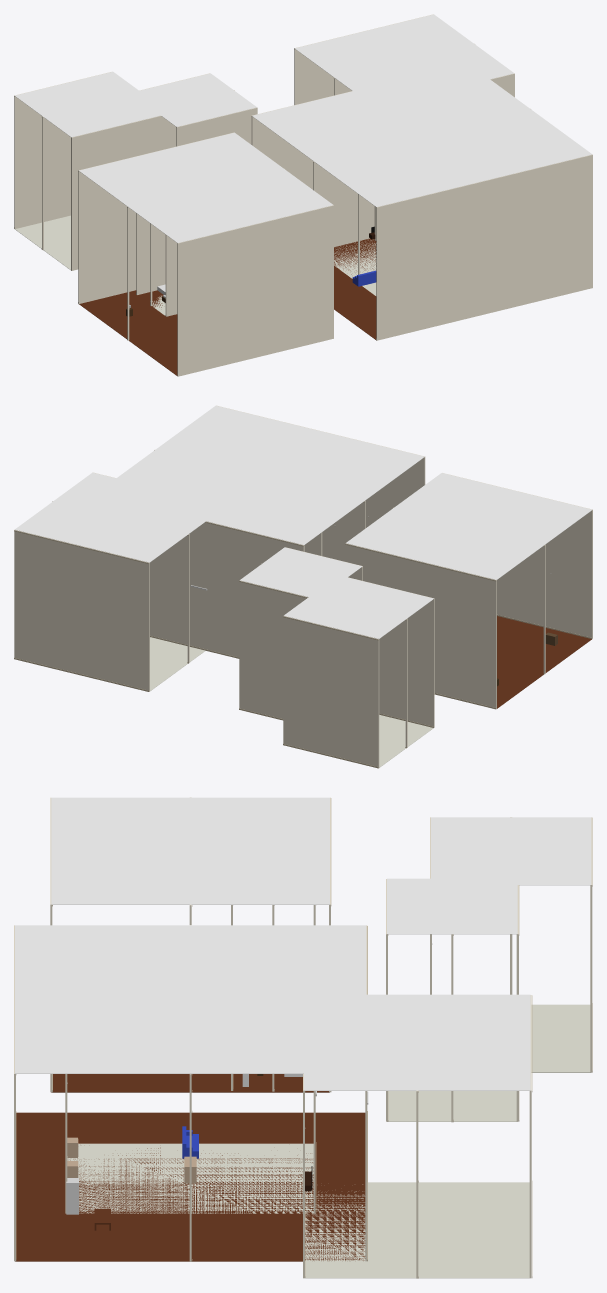
The model's file is ultra_detailed_1773.obj.
3 views of the same model, one above another, from view 1: azimuth 30°, elevation 25°; view 2: azimuth 150°, elevation 25°; view 3: azimuth 270°, elevation 25° (orthographic). The views are drawn at different scales.
Parts seen in each view (by area): view 1: Living_Room_1_front_wall_Living_Room_1_front_wall_material, Living_Room_1_ceiling_Living_Room_1_ceiling_material, Bedroom_1_front_wall_Bedroom_1_front_wall_material, Bedroom_1_ceiling_Bedroom_1_ceiling_material, Dining_Room_1_ceiling_Dining_Room_1_ceiling_material, Bedroom_1_back_wall_Bedroom_1_back_wall_material, Utility_Room_1_back_wall_Utility_Room_1_back_wall_material, Utility_Room_1_ceiling_Utility_Room_1_ceiling_material, Utility_Room_1_front_wall_Utility_Room_1_front_wall_material, Bedroom_1_floor_Bedroom_1_floor_material, Store_Room_1_ceiling_Store_Room_1_ceiling_material, Living_Room_1_floor_Living_Room_1_floor_material (+10 smaller); view 2: Living_Room_1_ceiling_Living_Room_1_ceiling_material, Dining_Room_1_back_wall_Dining_Room_1_back_wall_material, Bedroom_1_ceiling_Bedroom_1_ceiling_material, Utility_Room_1_back_wall_Utility_Room_1_back_wall_material, Living_Room_1_back_wall_Living_Room_1_back_wall_material, Bedroom_1_back_wall_Bedroom_1_back_wall_material, Dining_Room_1_ceiling_Dining_Room_1_ceiling_material, Bedroom_1_front_wall_Bedroom_1_front_wall_material, Store_Room_1_back_wall_Store_Room_1_back_wall_material, Utility_Room_1_front_wall_Utility_Room_1_front_wall_material, Utility_Room_1_ceiling_Utility_Room_1_ceiling_material, Kitchen_1_ceiling_Kitchen_1_ceiling_material (+7 smaller); view 3: Living_Room_1_ceiling_Living_Room_1_ceiling_material, Living_Room_1_floor_Living_Room_1_floor_material, Bedroom_1_ceiling_Bedroom_1_ceiling_material, Dining_Room_1_floor_Dining_Room_1_floor_material, Dining_Room_1_ceiling_Dining_Room_1_ceiling_material, Kitchen_1_floor_Kitchen_1_floor_material, Utility_Room_1_ceiling_Utility_Room_1_ceiling_material, Store_Room_1_ceiling_Store_Room_1_ceiling_material, Bedroom_1_floor_Bedroom_1_floor_material, Utility_Room_1_floor_Utility_Room_1_floor_material, Store_Room_1_floor_Store_Room_1_floor_material, Bathroom_2_ceiling_Bathroom_2_ceiling_material (+5 smaller).
Part boxes in pixels (<box>): Living_Room_1_front_wall_Living_Room_1_front_wall_material: <box>376,154,592,340</box>; Living_Room_1_ceiling_Living_Room_1_ceiling_material: <box>252,63,592,207</box>; Bedroom_1_front_wall_Bedroom_1_front_wall_material: <box>177,205,333,376</box>; Bedroom_1_ceiling_Bedroom_1_ceiling_material: <box>79,132,333,243</box>; Dining_Room_1_ceiling_Dining_Room_1_ceiling_material: <box>295,14,514,107</box>; Bedroom_1_back_wall_Bedroom_1_back_wall_material: <box>78,132,233,303</box>; Utility_Room_1_back_wall_Utility_Room_1_back_wall_material: <box>14,72,110,228</box>; Utility_Room_1_ceiling_Utility_Room_1_ceiling_material: <box>15,71,169,137</box>; Utility_Room_1_front_wall_Utility_Room_1_front_wall_material: <box>71,115,170,270</box>; Bedroom_1_floor_Bedroom_1_floor_material: <box>79,290,177,375</box>; Store_Room_1_ceiling_Store_Room_1_ceiling_material: <box>139,73,256,126</box>; Living_Room_1_floor_Living_Room_1_floor_material: <box>334,238,376,340</box>; Living_Room_1_ceiling_Living_Room_1_ceiling_material: <box>95,405,424,544</box>; Dining_Room_1_back_wall_Dining_Room_1_back_wall_material: <box>14,529,149,691</box>; Bedroom_1_ceiling_Bedroom_1_ceiling_material: <box>346,473,592,579</box>; Utility_Room_1_back_wall_Utility_Room_1_back_wall_material: <box>283,616,379,767</box>; Living_Room_1_back_wall_Living_Room_1_back_wall_material: <box>150,521,304,657</box>; Bedroom_1_back_wall_Bedroom_1_back_wall_material: <box>345,543,496,708</box>; Dining_Room_1_ceiling_Dining_Room_1_ceiling_material: <box>15,472,224,562</box>; Bedroom_1_front_wall_Bedroom_1_front_wall_material: <box>443,473,592,638</box>; Store_Room_1_back_wall_Store_Room_1_back_wall_material: <box>239,580,308,718</box>; Utility_Room_1_front_wall_Utility_Room_1_front_wall_material: <box>348,577,434,727</box>; Utility_Room_1_ceiling_Utility_Room_1_ceiling_material: <box>283,575,433,638</box>; Kitchen_1_ceiling_Kitchen_1_ceiling_material: <box>214,435,363,521</box>; Living_Room_1_ceiling_Living_Room_1_ceiling_material: <box>15,925,366,1073</box>; Living_Room_1_floor_Living_Room_1_floor_material: <box>15,1112,365,1261</box>; Bedroom_1_ceiling_Bedroom_1_ceiling_material: <box>51,797,329,904</box>; Dining_Room_1_floor_Dining_Room_1_floor_material: <box>304,1182,530,1278</box>; Dining_Room_1_ceiling_Dining_Room_1_ceiling_material: <box>304,994,530,1090</box>; Kitchen_1_floor_Kitchen_1_floor_material: <box>67,1143,313,1213</box>; Utility_Room_1_ceiling_Utility_Room_1_ceiling_material: <box>431,817,591,885</box>; Store_Room_1_ceiling_Store_Room_1_ceiling_material: <box>387,878,517,934</box>; Bedroom_1_floor_Bedroom_1_floor_material: <box>51,1074,329,1092</box>; Utility_Room_1_floor_Utility_Room_1_floor_material: <box>531,1004,590,1072</box>; Store_Room_1_floor_Store_Room_1_floor_material: <box>387,1091,517,1121</box>; Bathroom_2_ceiling_Bathroom_2_ceiling_material: <box>232,868,314,903</box>.
Bounding box in the file's own units: 33.61 × 10.37 × 27.98.
